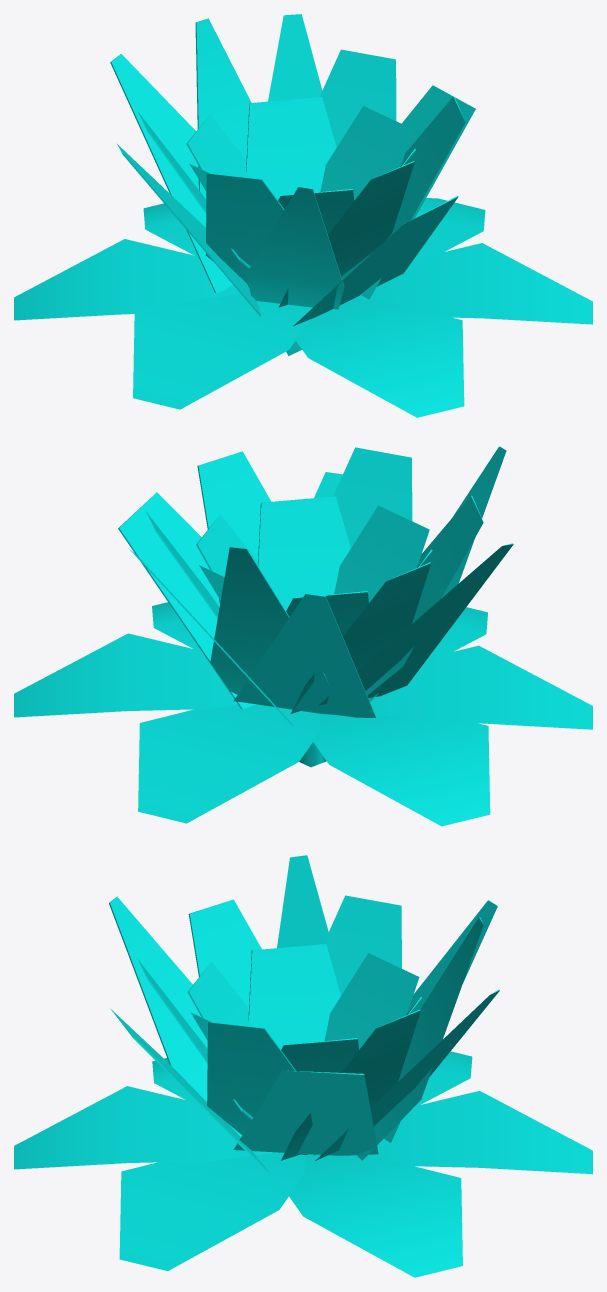
Rendered from m_lotus.fbx.
3 views of the same model, one above another, from view 1: azimuth 30°, elevation 25°; view 2: azimuth 150°, elevation 25°; view 3: azimuth 270°, elevation 25° (orthographic). The views are drawn at different scales.
Parts seen in each view (by area): view 1: polySurface1788; view 2: polySurface1788; view 3: polySurface1788.
Part boxes in pixels (x1,y1,x2,y2): polySurface1788: (14, 14, 592, 417); polySurface1788: (14, 446, 592, 826); polySurface1788: (14, 855, 592, 1277).
Size of the model in its own units: 72.7 by 40.12 by 76.37.
